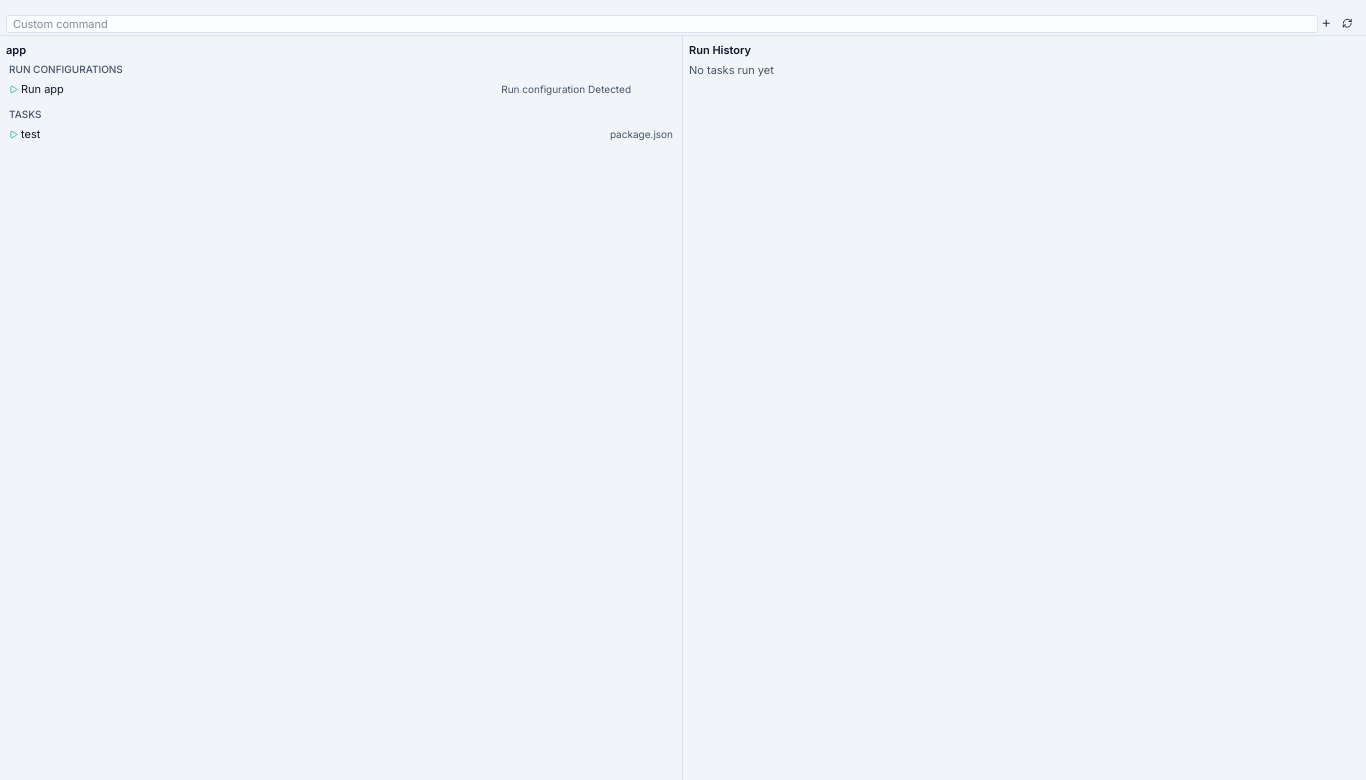
RunPanel › reports a missing Before launch target without starting the run
The width and height of the screenshot is (1366, 780).
What coordinates should you click on to do the following:
click the text "Run app"
I would click on:
 (42, 89)
Its box is [21,81,64,98].
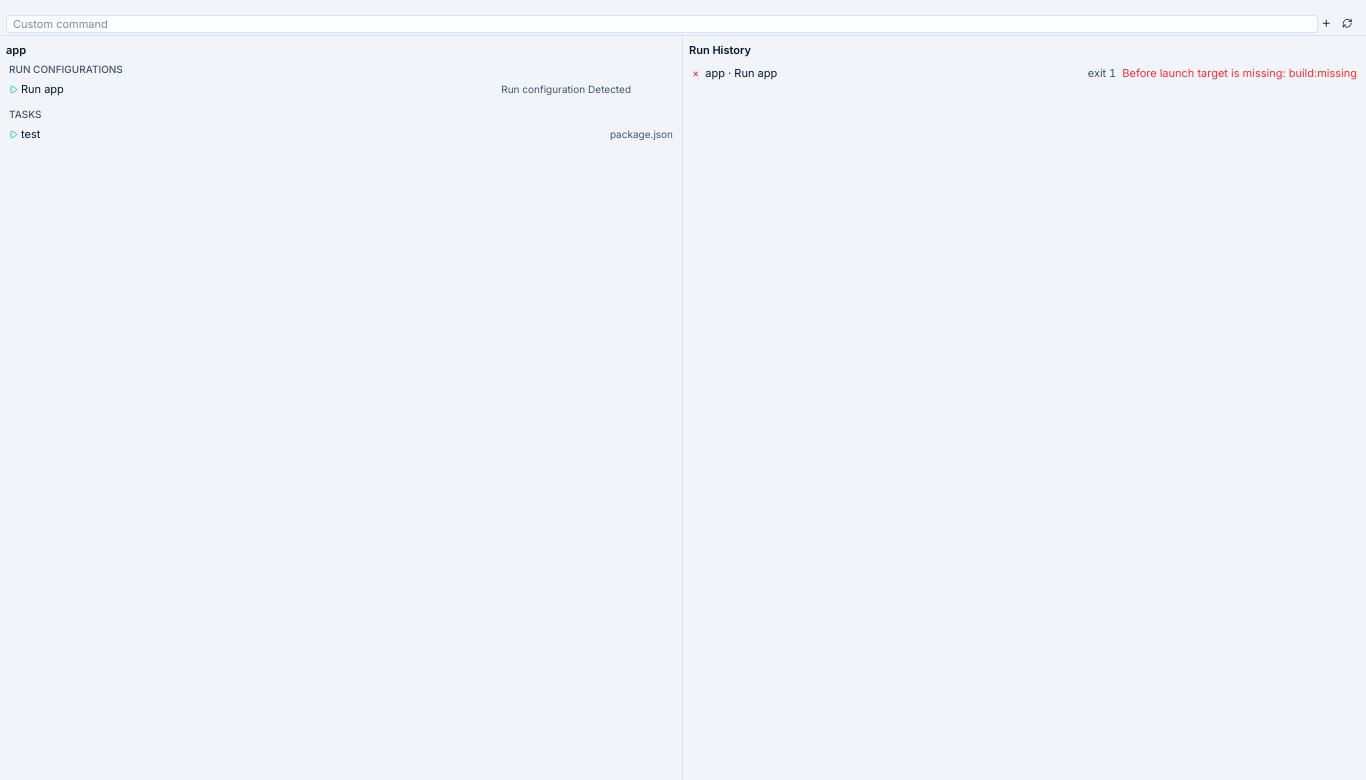
Check: the text "Before launch target is missing: build:missing" is shown, box [1122,64,1357,81]
